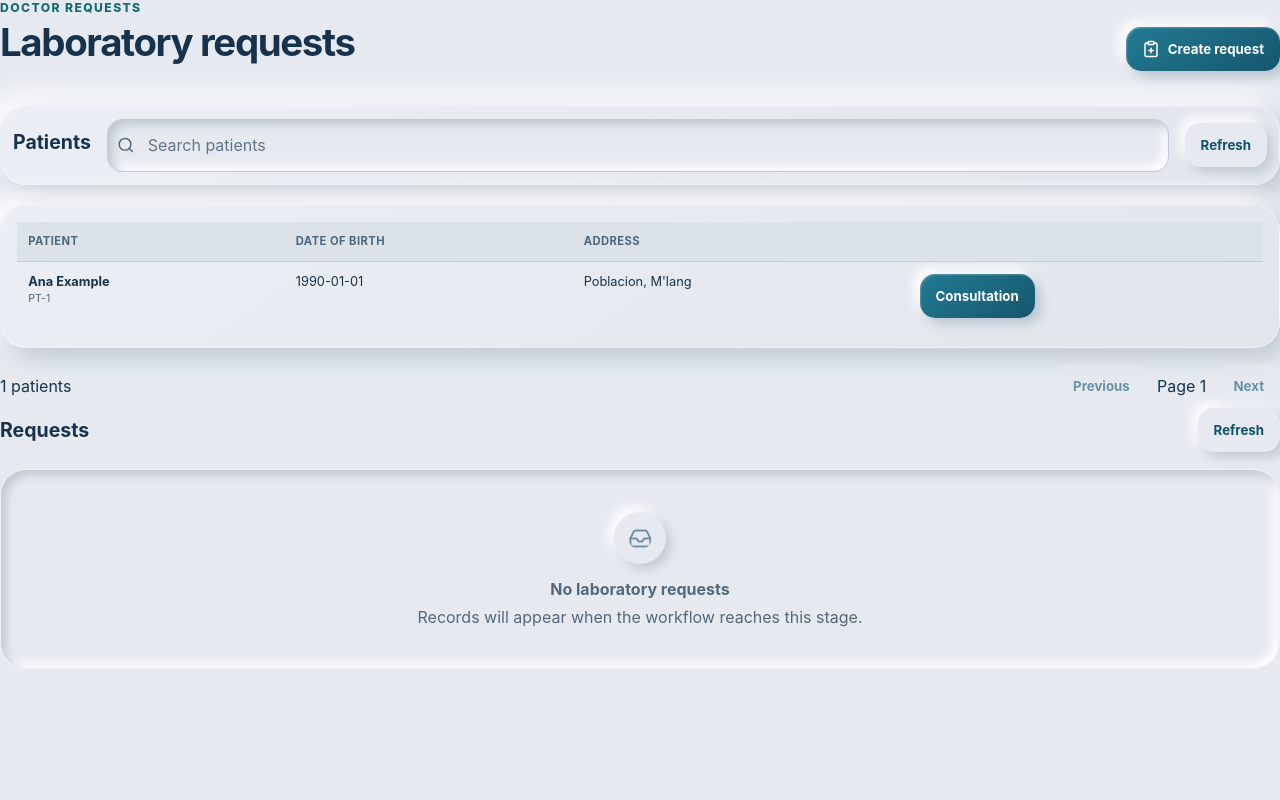
Scenario: patient-based laboratory requests › saves the waiting consultation before continuing to the request
Click the button "Consultation". click: (977, 296)
box: 920,274 -> 1035,318
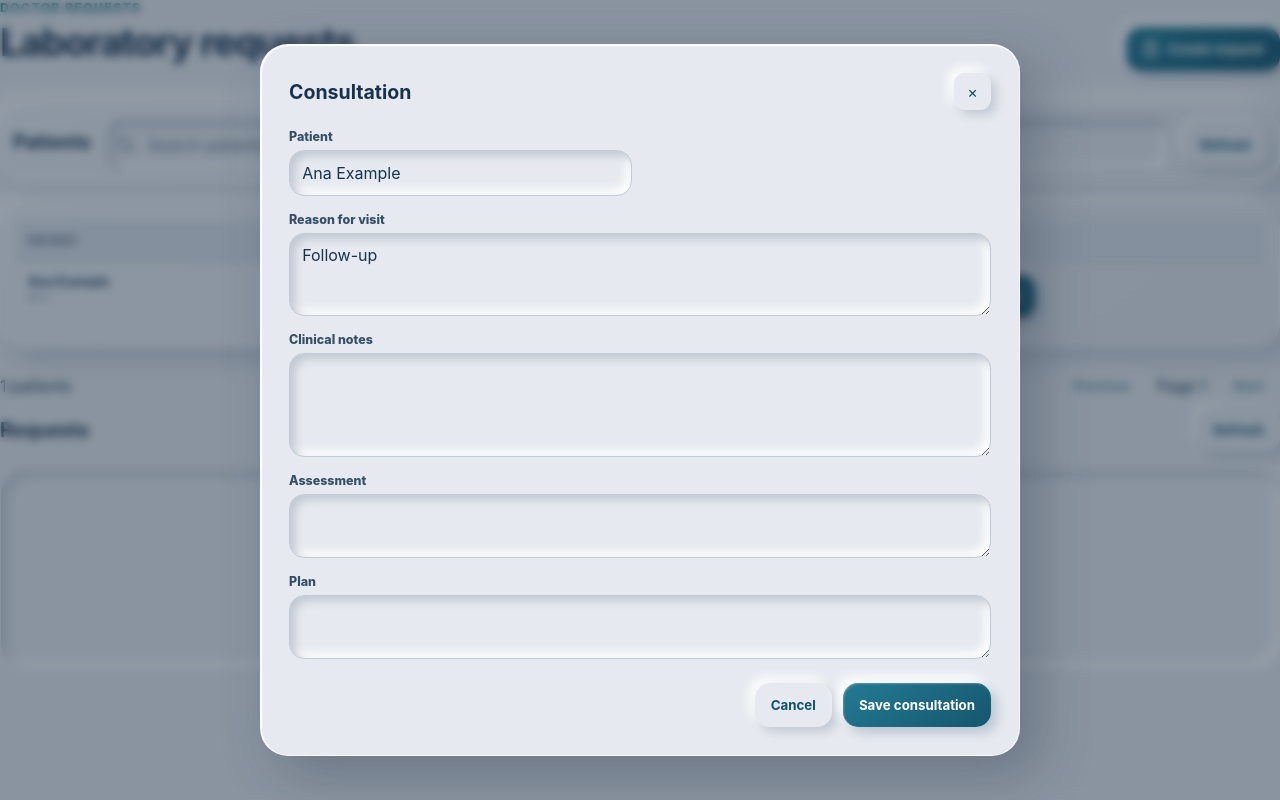
Expected: the text box labelled "Reason for visit" holds "Follow-up", 289,233 -> 991,316
Type "Reviewed." into the text box labelled "Clinical notes". click: (640, 405)
box: 289,354 -> 991,457
Type "Recorded." into the text box labelled "Assessment". click: (640, 526)
box: 289,494 -> 991,558
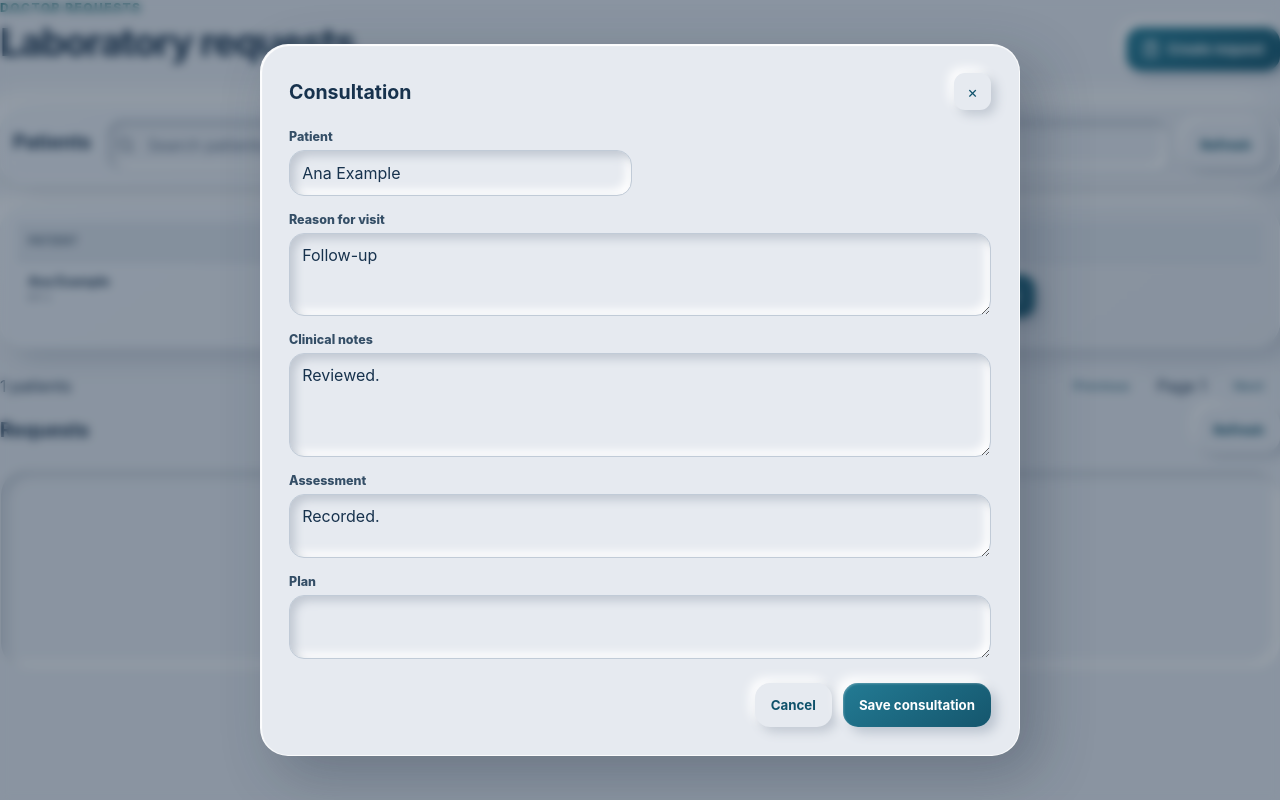
Click the button "Save consultation". click: (917, 705)
box: 843,683 -> 991,727
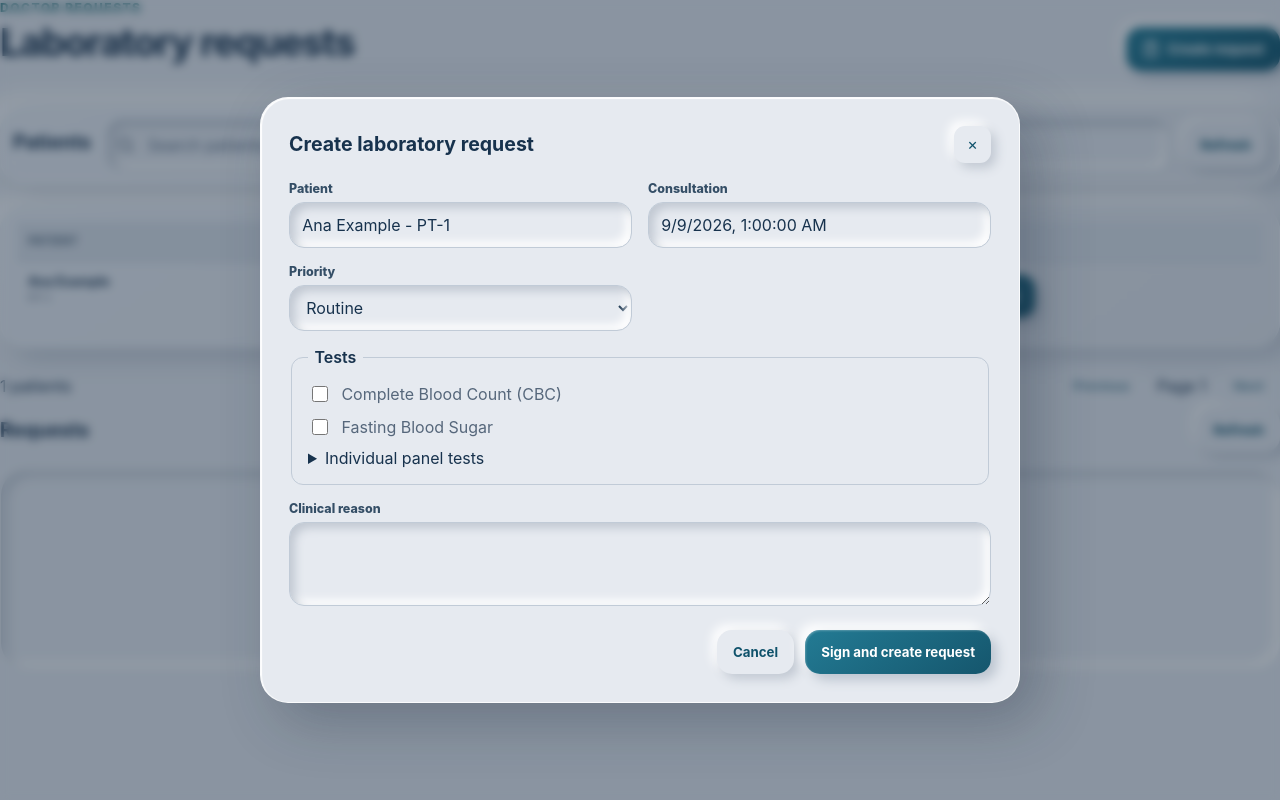
Expected: the checkbox labelled "Fasting Blood Sugar" is shown
Click the checkbox labelled "Fasting Blood Sugar". click: (320, 427)
box: 312,419 -> 328,435
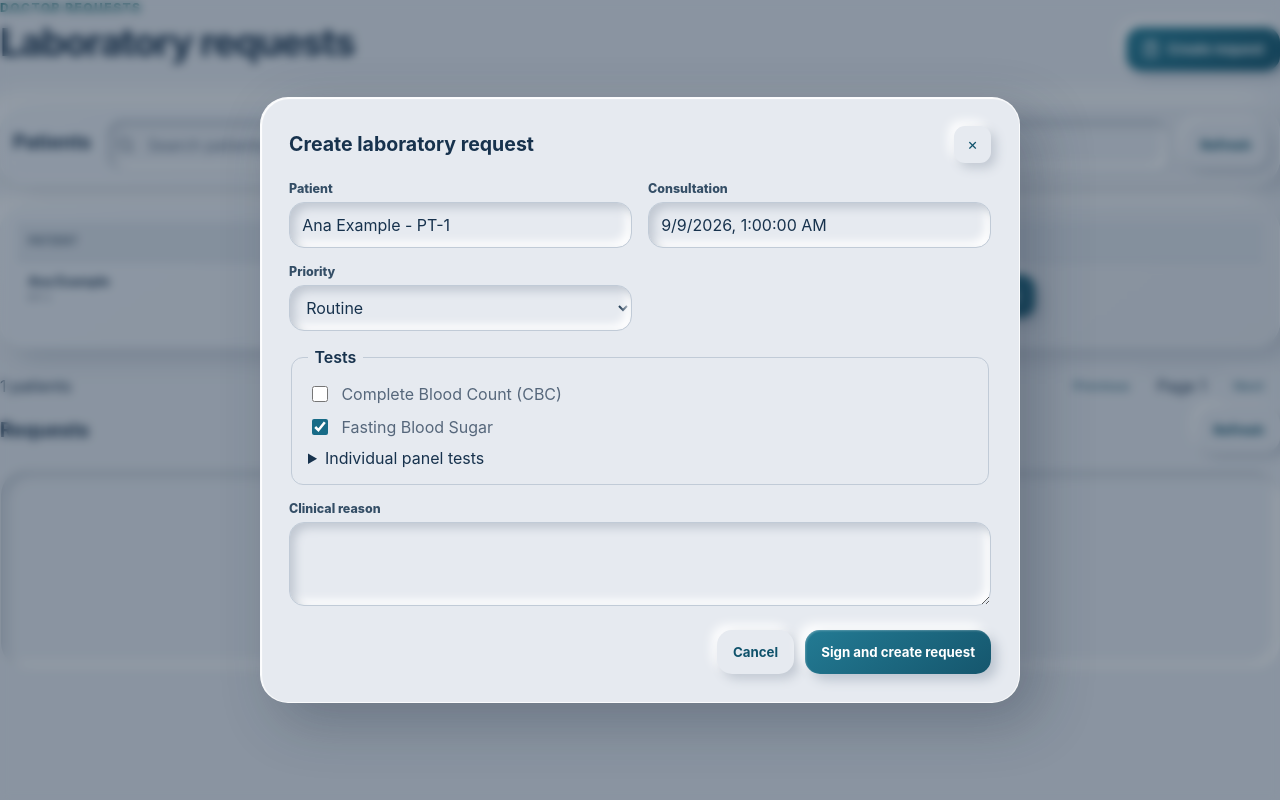
Type "Evaluation" into the text box labelled "Clinical reason". click: (640, 564)
box: 289,522 -> 991,606
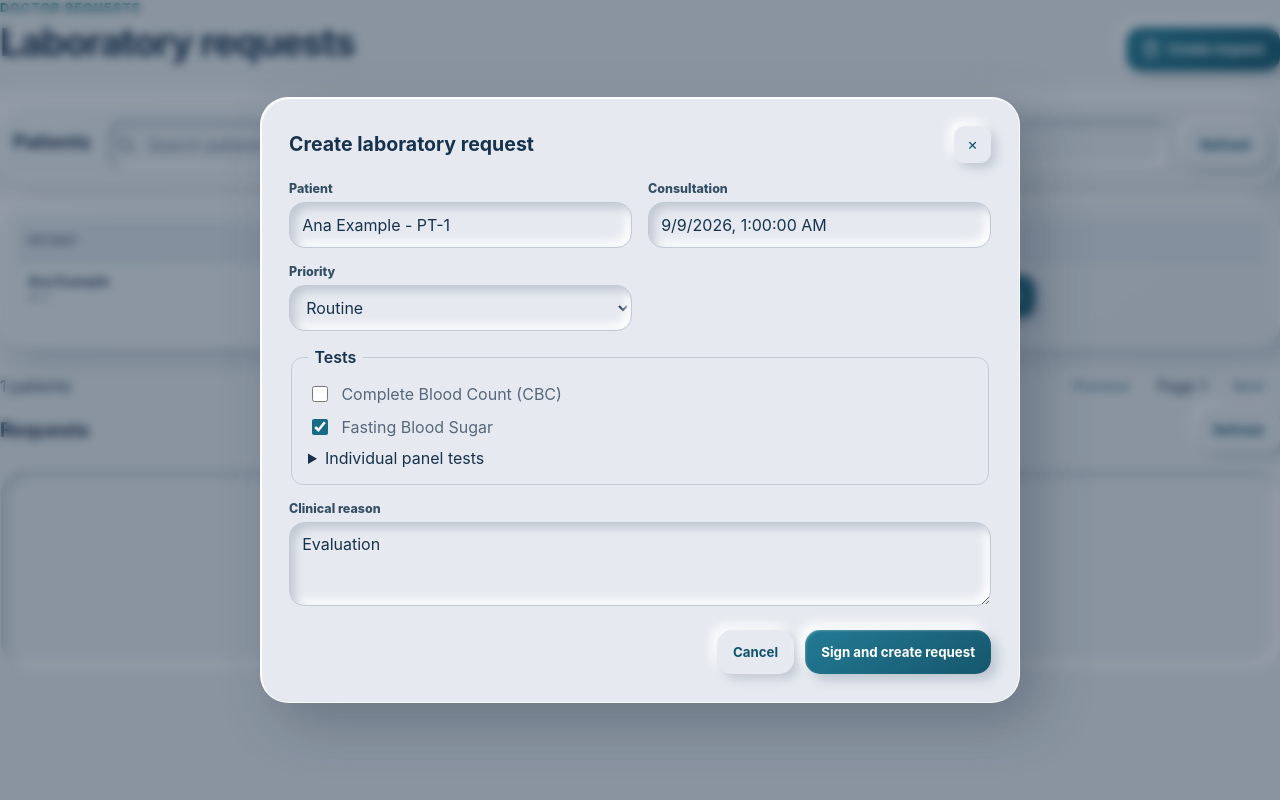
Click the button "Sign and create request". click: (898, 652)
box: 805,630 -> 991,674
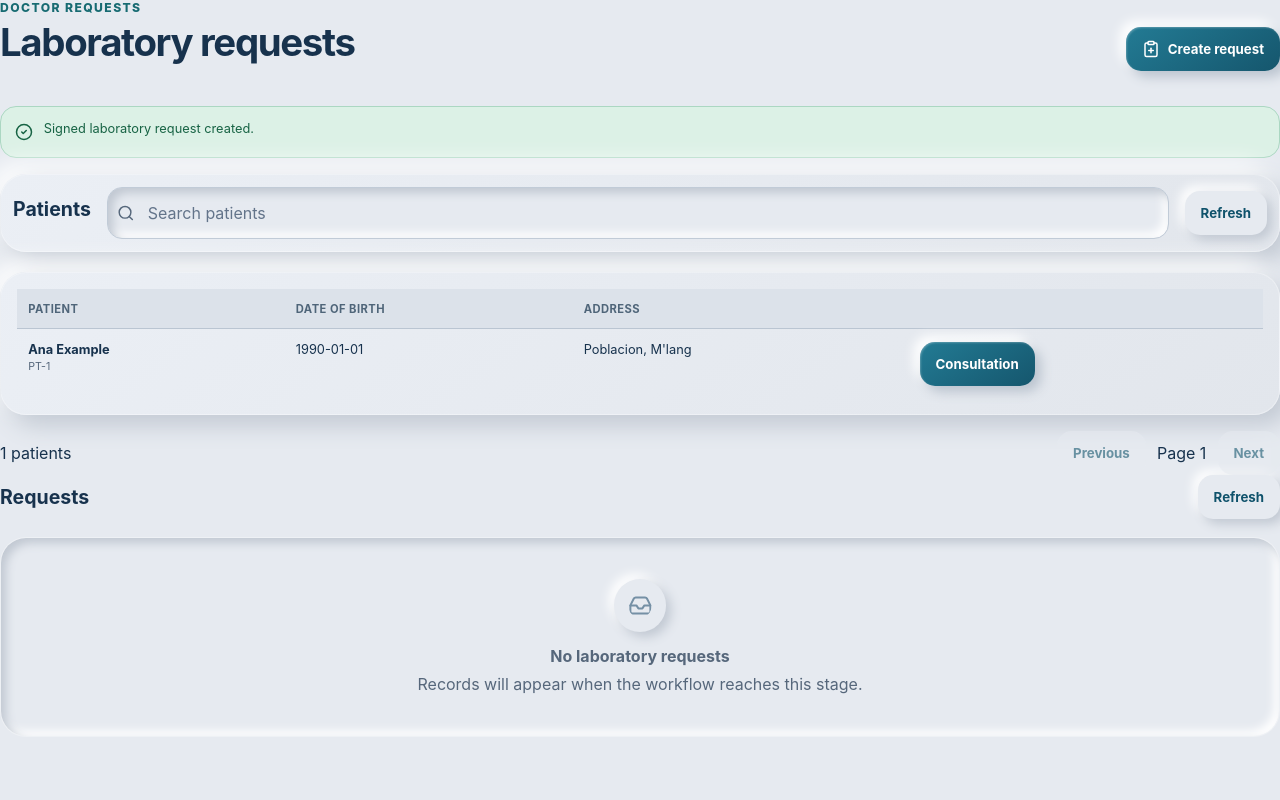
Expected: the text "Signed laboratory request created." is shown, 44,120 -> 254,138
